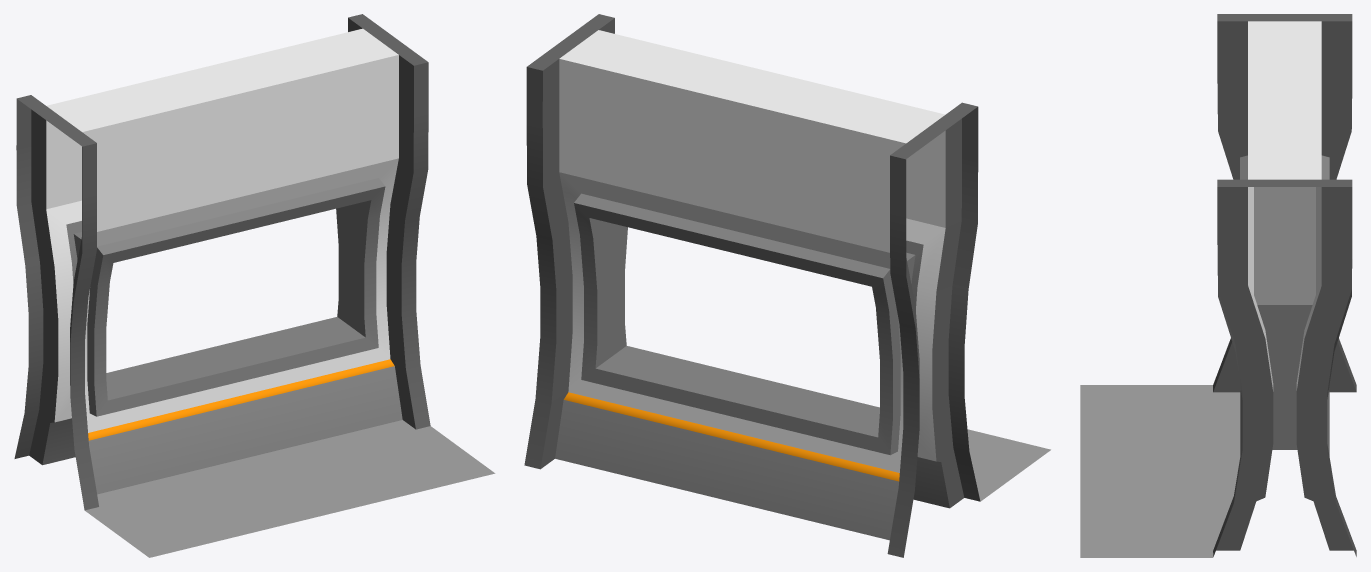
File: SM_ExteriorWindowWall_01.fbx
3 views of the same model, side by side, from view 1: azimuth 30°, elevation 25°; view 2: azimuth 150°, elevation 25°; view 3: azimuth 270°, elevation 25° (orthographic). The views are drawn at different scales.
Parts seen in each view (by area): view 1: SM_ExteriorWindowWall_01; view 2: SM_ExteriorWindowWall_01; view 3: SM_ExteriorWindowWall_01.
Part boxes in pixels (bbox=[...]): SM_ExteriorWindowWall_01: bbox=[14, 14, 495, 557]; SM_ExteriorWindowWall_01: bbox=[524, 14, 1050, 557]; SM_ExteriorWindowWall_01: bbox=[1080, 14, 1356, 557].
Bounding box in the file's own units: 200 × 200 × 135.
1 material, 1 textured.
